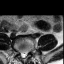CCS_normal: (22, 49, 24, 61)
LFS_stenosis: (27, 48, 30, 55)
LLS_normal: (24, 49, 27, 59)
RFS_severe_stenosis: (17, 47, 20, 55)
RLS_normal: (20, 49, 22, 59)
